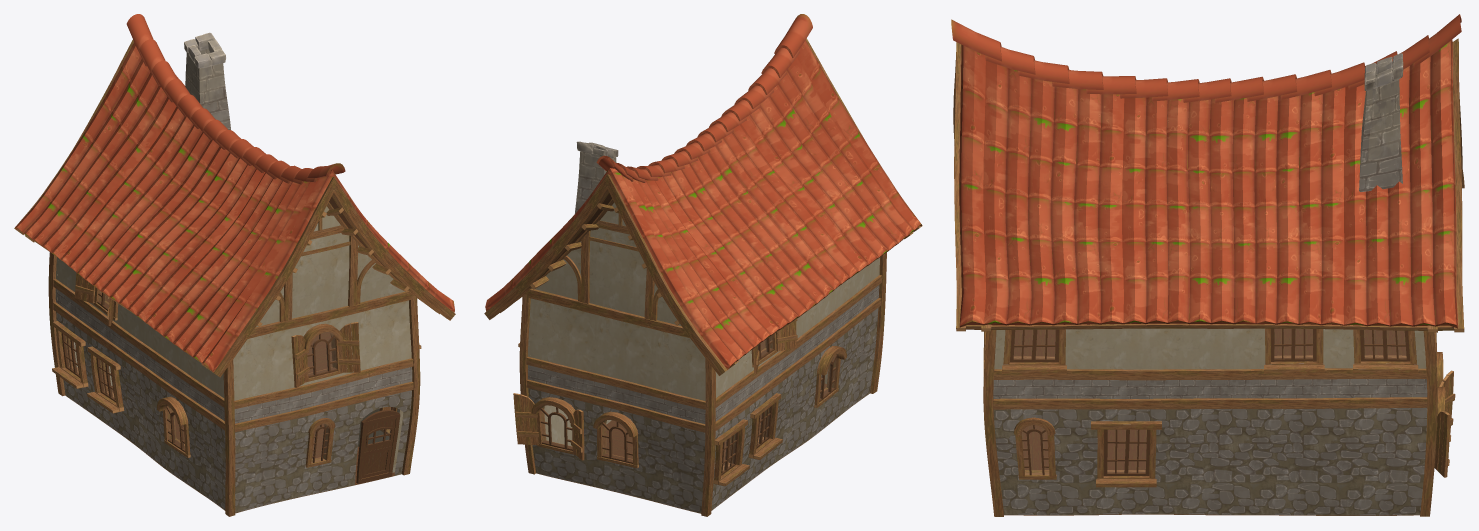
3 renders of one model, left to right at view 1: azimuth 30°, elevation 25°; view 2: azimuth 150°, elevation 25°; view 3: azimuth 270°, elevation 25°, orthographic. The views are drawn at different scales.
Visible parts, largest first — view 1: H10; view 2: H10; view 3: H10.
Boxes of the visible parts, <box> form: H10: <box>14,14,455,516</box>; H10: <box>484,14,922,516</box>; H10: <box>951,14,1464,516</box>.
Bounding box in the file's own units: 8.78 × 11.63 × 12.11.
Materials: 41 (37 with a texture image).
